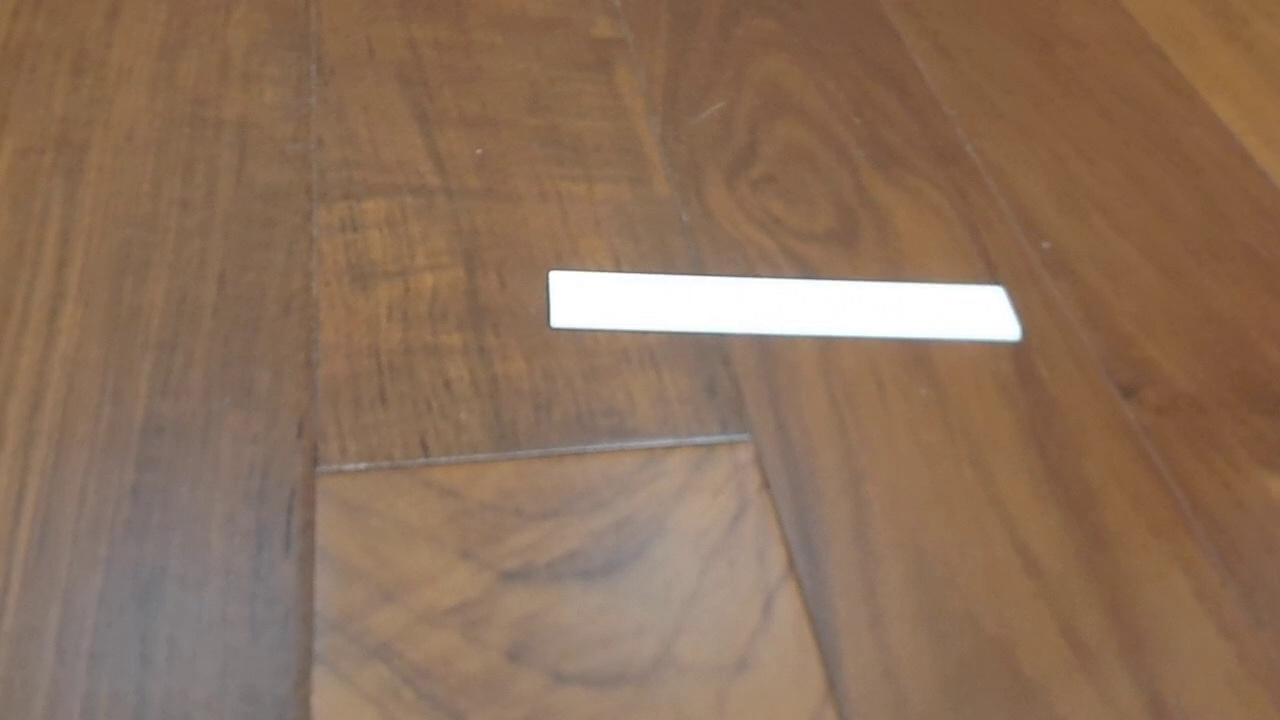ruler: (548, 269, 1024, 344)
